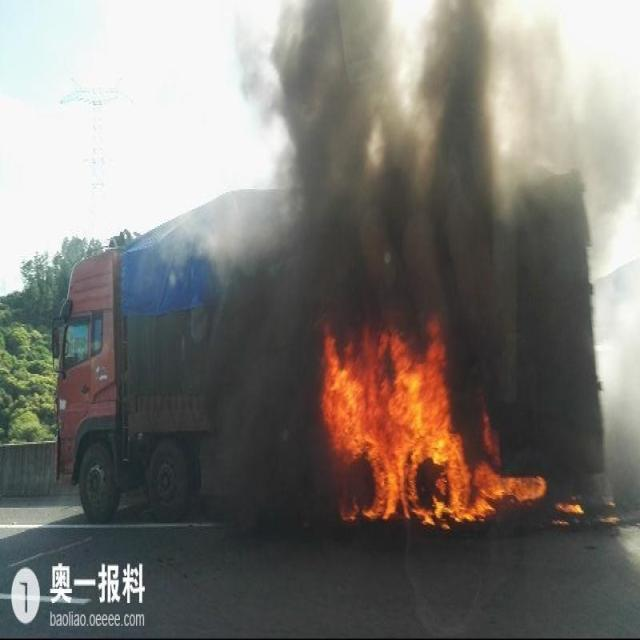Fire: (322, 326, 547, 530), (552, 496, 586, 529)
Smoke: (158, 1, 640, 526)
